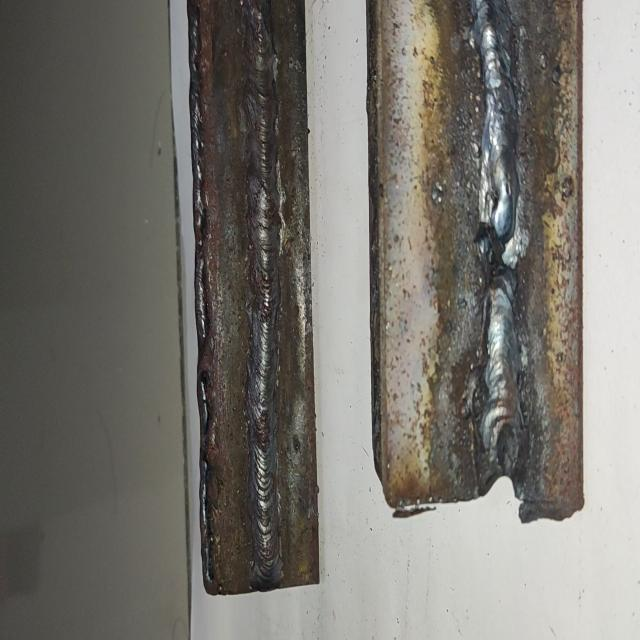Bad Weld: (464, 0, 526, 469)
Defect: (472, 413, 529, 498), (472, 214, 528, 298), (195, 408, 217, 487), (193, 325, 215, 385)
Good Weld: (248, 0, 274, 581)
